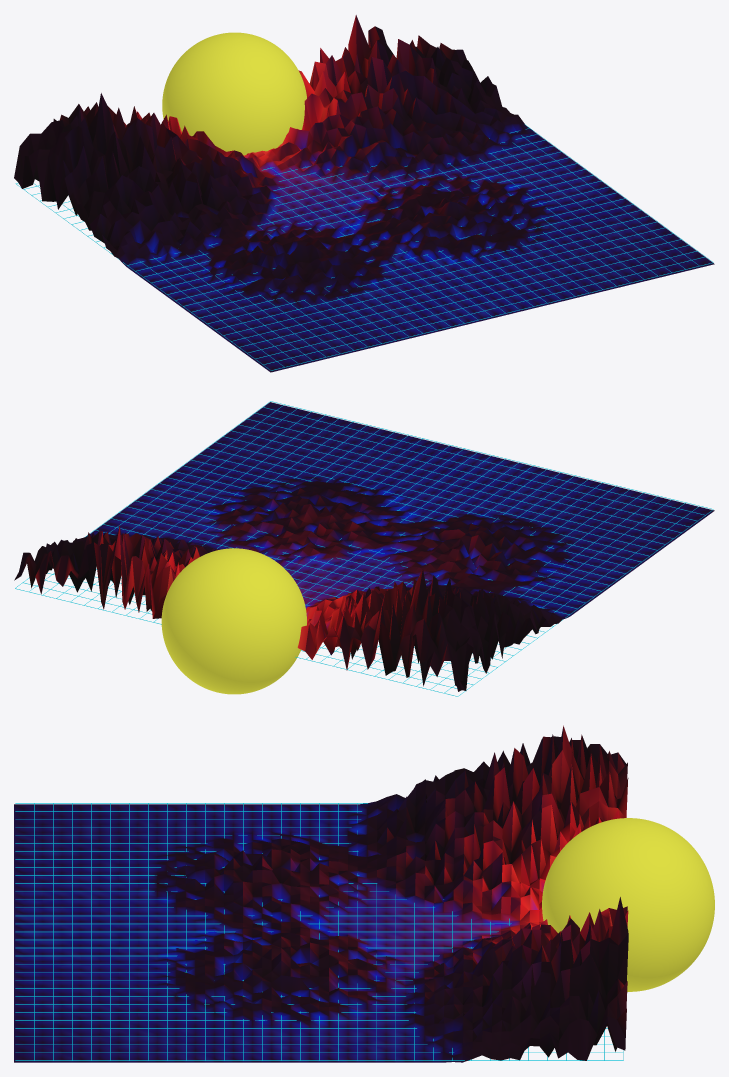
Rendered from vapor.glb.
3 renders of one model, top to bottom at view 1: azimuth 30°, elevation 25°; view 2: azimuth 150°, elevation 25°; view 3: azimuth 270°, elevation 25°, orthographic. The views are drawn at different scales.
Parts seen in each view (by area): view 1: Land, Sun, Grid; view 2: Land, Sun, Grid; view 3: Land, Sun, Grid.
Part boxes in pixels (box(x1,y1,x2,y2)): Land: box(14, 15, 714, 372); Sun: box(162, 32, 306, 155); Grid: box(15, 124, 713, 370); Land: box(14, 402, 714, 691); Sun: box(161, 548, 306, 694); Grid: box(15, 401, 713, 696); Land: box(14, 725, 628, 1062); Sun: box(542, 818, 714, 991); Grid: box(15, 803, 623, 1060).
Bounding box in the file's own units: 34.07 × 10.15 × 39.02.
